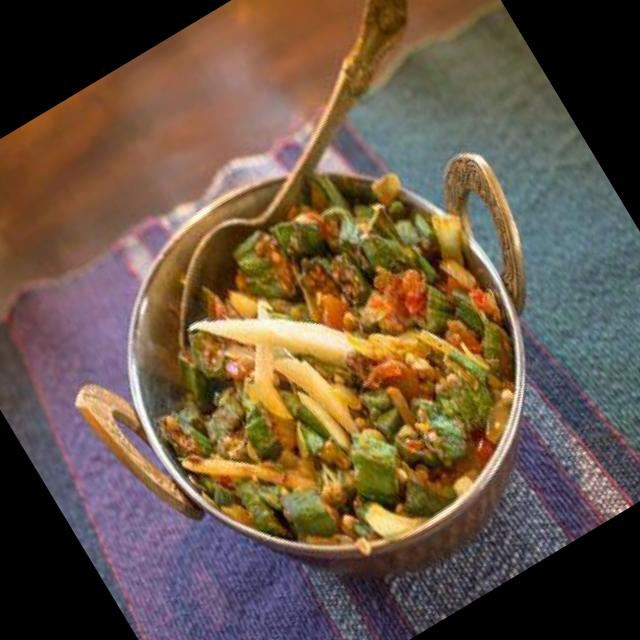BhindiMasala: (85, 115, 582, 612)
